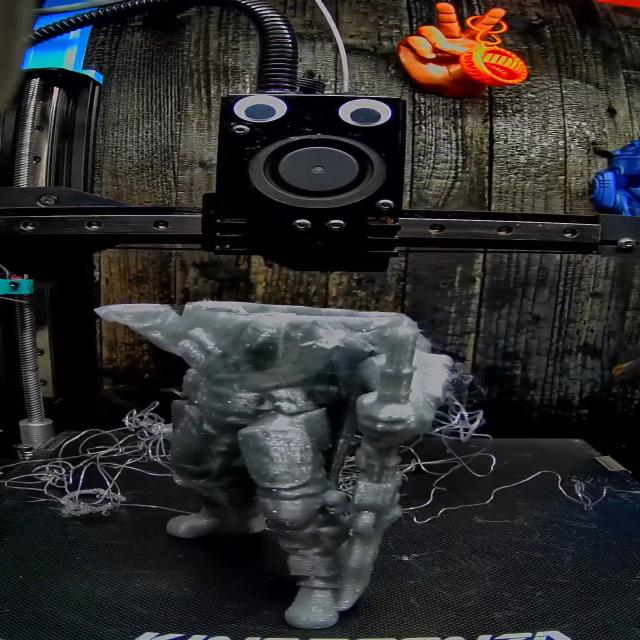spaghetti: (400, 434, 628, 544), (3, 396, 176, 514)
